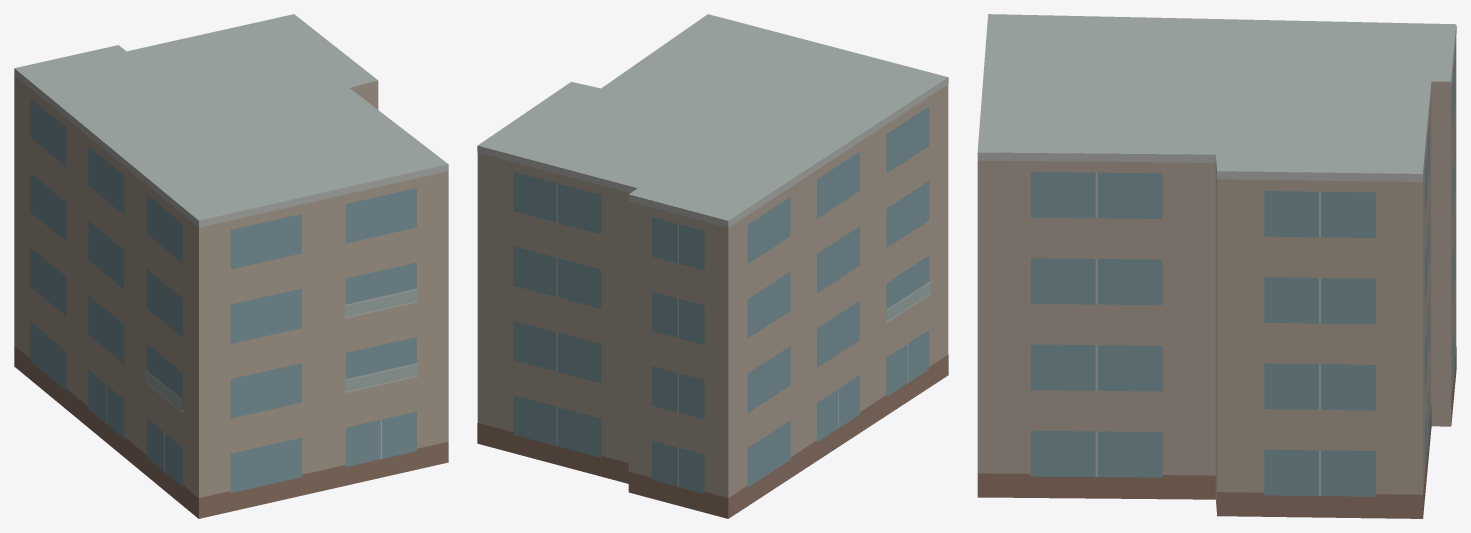
File: survey-upis-32772856.glb
The picture shows the model from 3 angles, left to right: view 1: azimuth 30°, elevation 25°; view 2: azimuth 150°, elevation 25°; view 3: azimuth 270°, elevation 25°; orthographic projection. The views are drawn at different scales.
Visible parts, largest first — view 1: survey-upis-32772856.tmp; view 2: survey-upis-32772856.tmp; view 3: survey-upis-32772856.tmp.
Boxes of the visible parts, x1,y1,x2,y2 form: survey-upis-32772856.tmp: [14, 14, 448, 518]; survey-upis-32772856.tmp: [477, 14, 948, 518]; survey-upis-32772856.tmp: [977, 14, 1456, 518].
Bounding box in the file's own units: 10.35 × 10.4 × 13.1.
